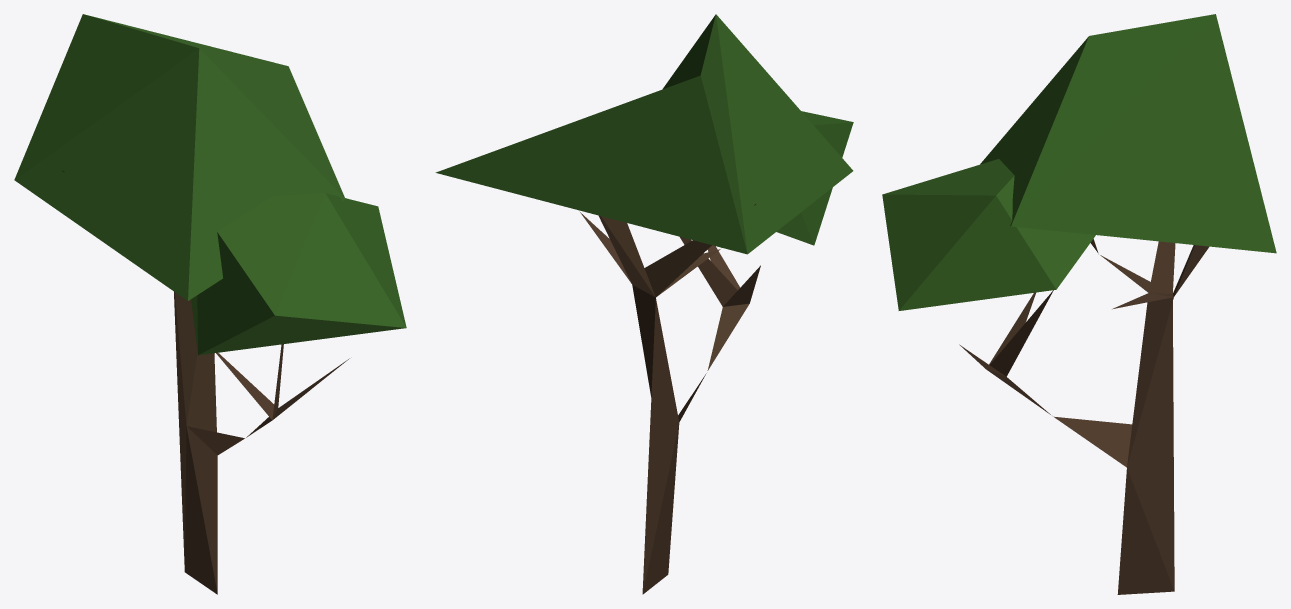
File: tree_a_lod2.glb
3 renders of one model, left to right at view 1: azimuth 30°, elevation 25°; view 2: azimuth 150°, elevation 25°; view 3: azimuth 270°, elevation 25°, orthographic. The views are drawn at different scales.
Parts seen in each view (by area): view 1: tree_a_lod2; view 2: tree_a_lod2; view 3: tree_a_lod2.
Boxes of the visible parts, x1=… form: tree_a_lod2: x1=14, y1=14, x2=406, y2=594; tree_a_lod2: x1=435, y1=14, x2=853, y2=594; tree_a_lod2: x1=882, y1=14, x2=1276, y2=594.
Bounding box in the file's own units: 1.63 × 2.98 × 1.96.
